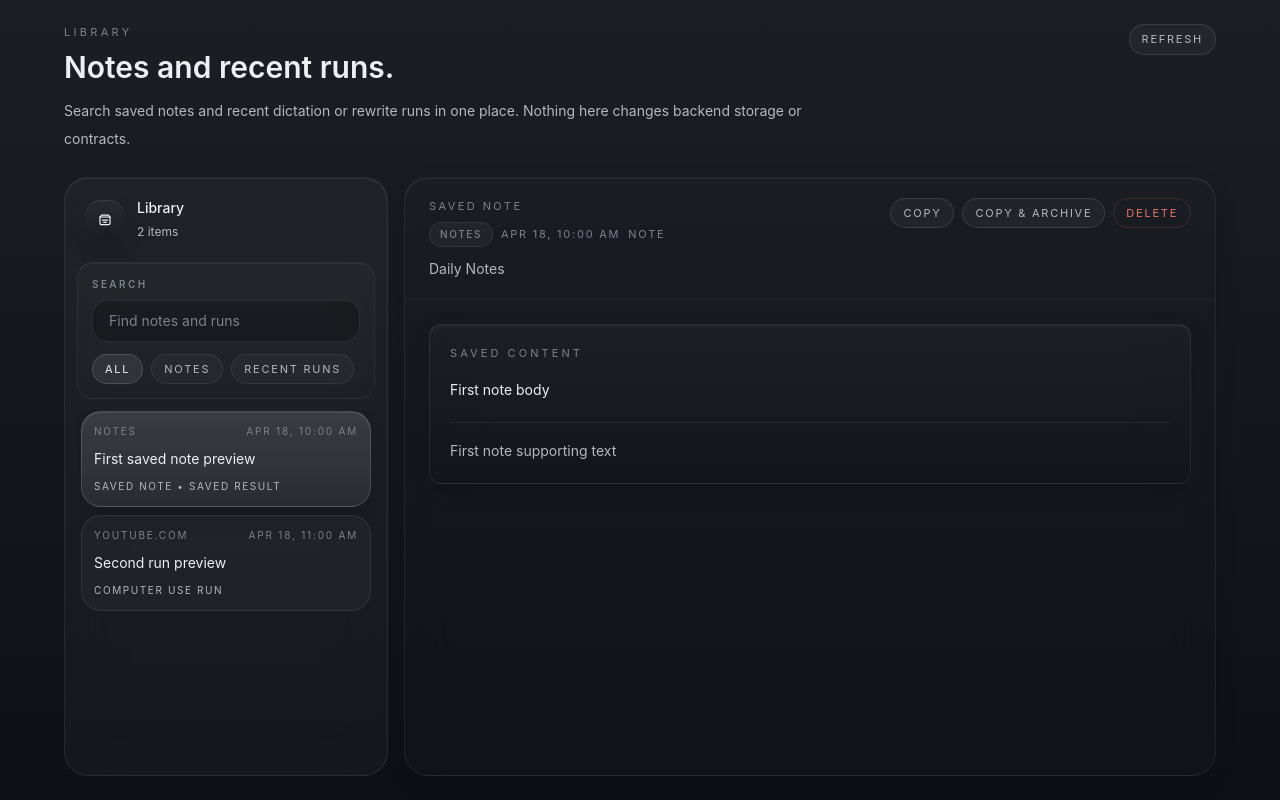
LibraryView › keeps run actions visible from normalized Library data when history details are not hydrated
The image size is (1280, 800).
Check: the text "First note body" is shown, box [450,380,550,398]
Click the button "Second run preview" at (226, 563), box [81,515,371,611]
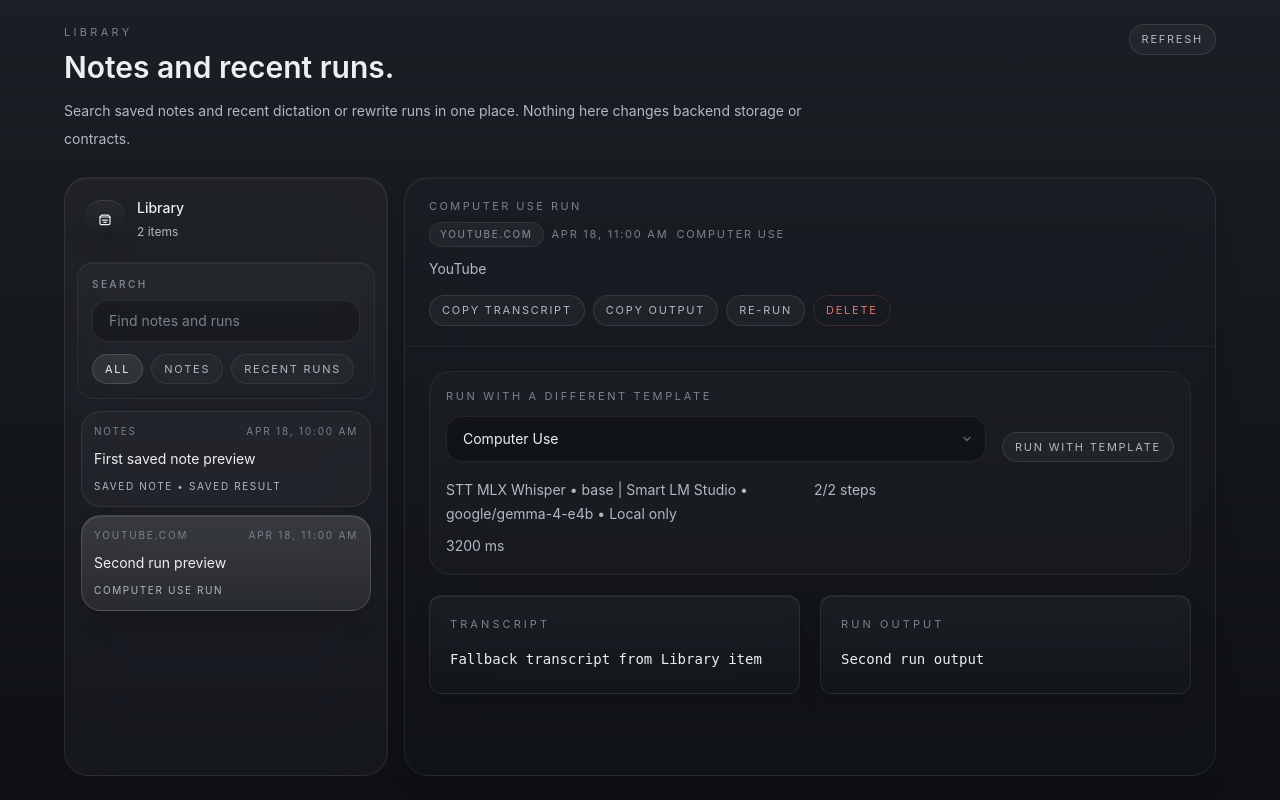
Check: the text "Second run output" is shown, box [841,650,984,666]
Check: the text "Fallback transcript from Library item" is shown, box [450,650,762,666]
Check: the button "Copy transcript" is shown, box [429,295,585,326]
